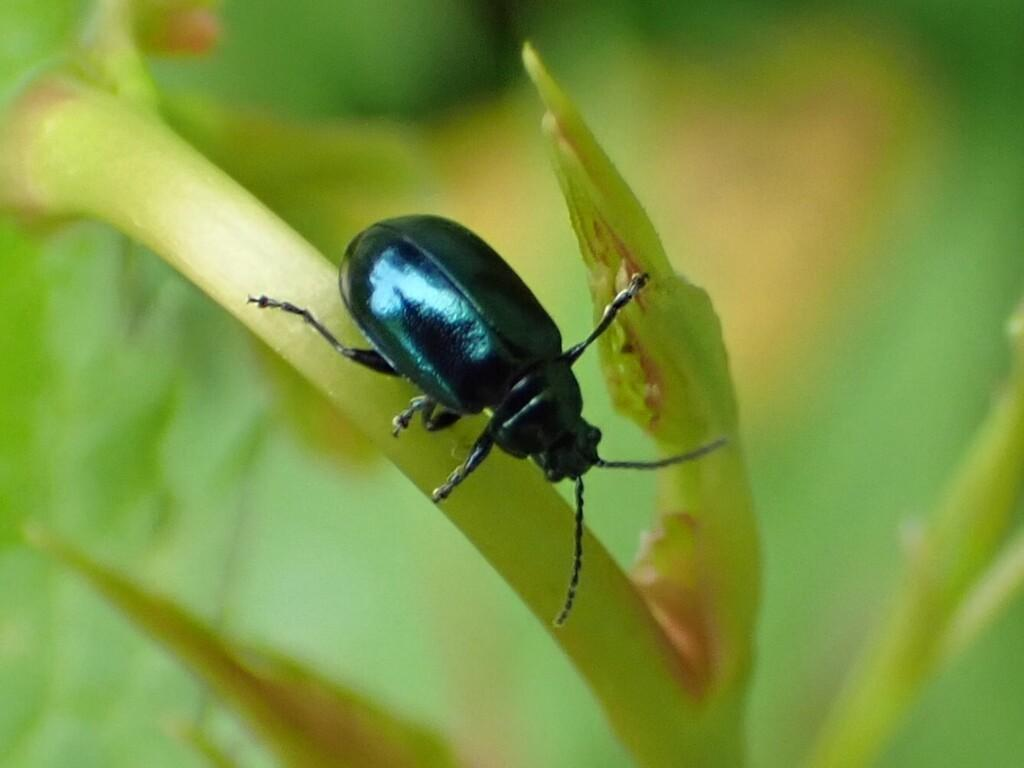flea_beetle: (219, 144, 803, 666)
